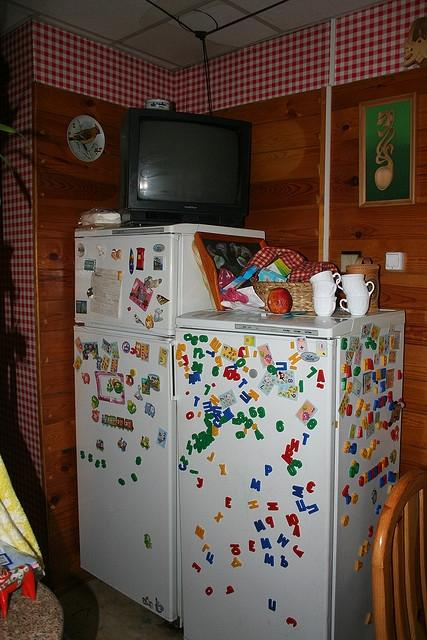apple: (267, 288, 292, 314)
